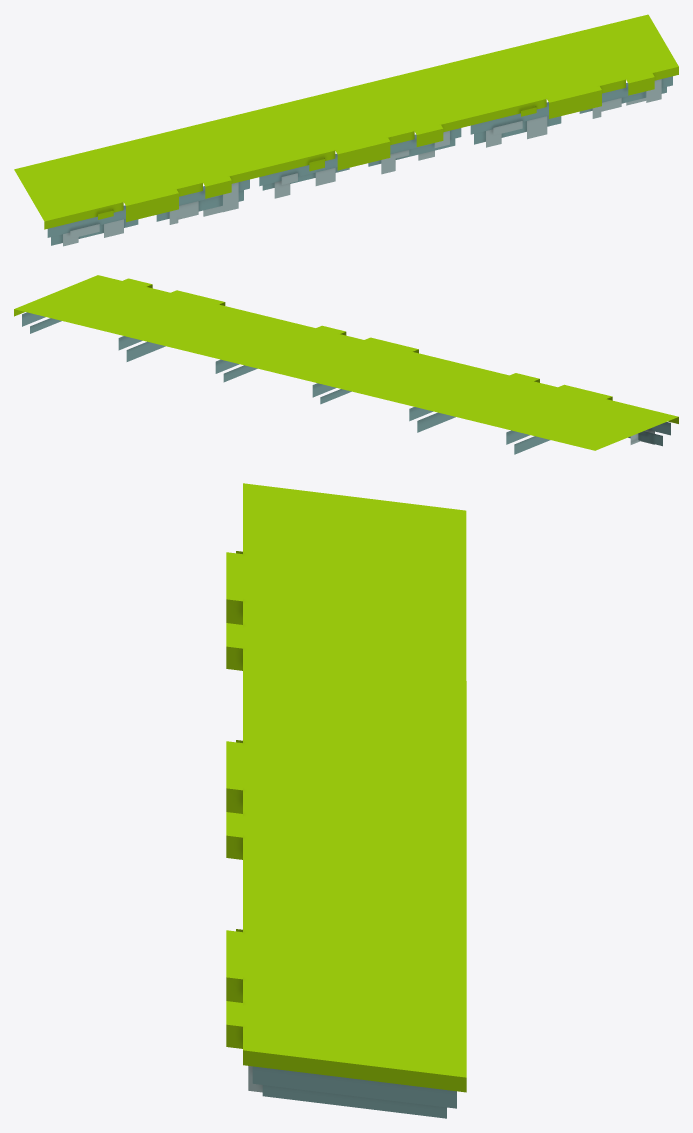
Rendered from Field_Type_01_10.FBX.
The picture shows the model from 3 angles, top to bottom: view 1: azimuth 30°, elevation 25°; view 2: azimuth 150°, elevation 25°; view 3: azimuth 270°, elevation 25°; orthographic projection. The views are drawn at different scales.
Visible parts, largest first — view 1: Field_Type_01_10; view 2: Field_Type_01_10; view 3: Field_Type_01_10.
Boxes of the visible parts, <box> form: Field_Type_01_10: <box>14,14,678,246</box>; Field_Type_01_10: <box>14,275,678,454</box>; Field_Type_01_10: <box>226,483,466,1118</box>.
Bounding box in the file's own units: 136 × 8.07 × 23.22.
